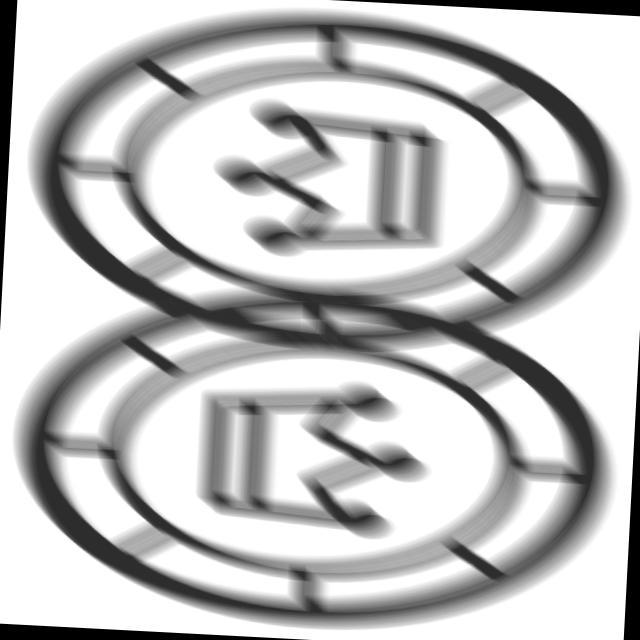coin: (1, 261, 629, 640), (14, 1, 640, 380)
